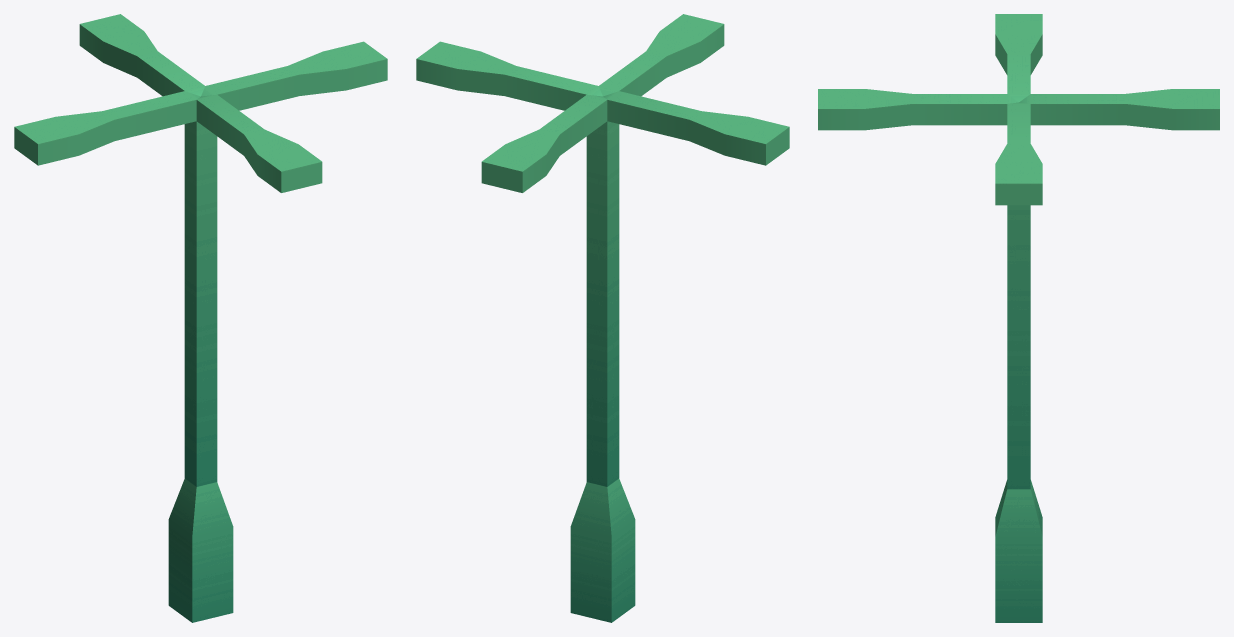
The model's file is light_square_cross.glb.
The picture shows the model from 3 angles, left to right: view 1: azimuth 30°, elevation 25°; view 2: azimuth 150°, elevation 25°; view 3: azimuth 270°, elevation 25°; orthographic projection.
Parts seen in each view (by area): view 1: light-square-cross; view 2: light-square-cross; view 3: light-square-cross.
Boxes of the visible parts, box(x1,y1,x2,y2) form: light-square-cross: box(14, 14, 387, 622); light-square-cross: box(416, 14, 789, 622); light-square-cross: box(818, 14, 1219, 622).
Size of the model in its own units: 0.425 by 0.6 by 0.425.
1 material, 1 textured.
